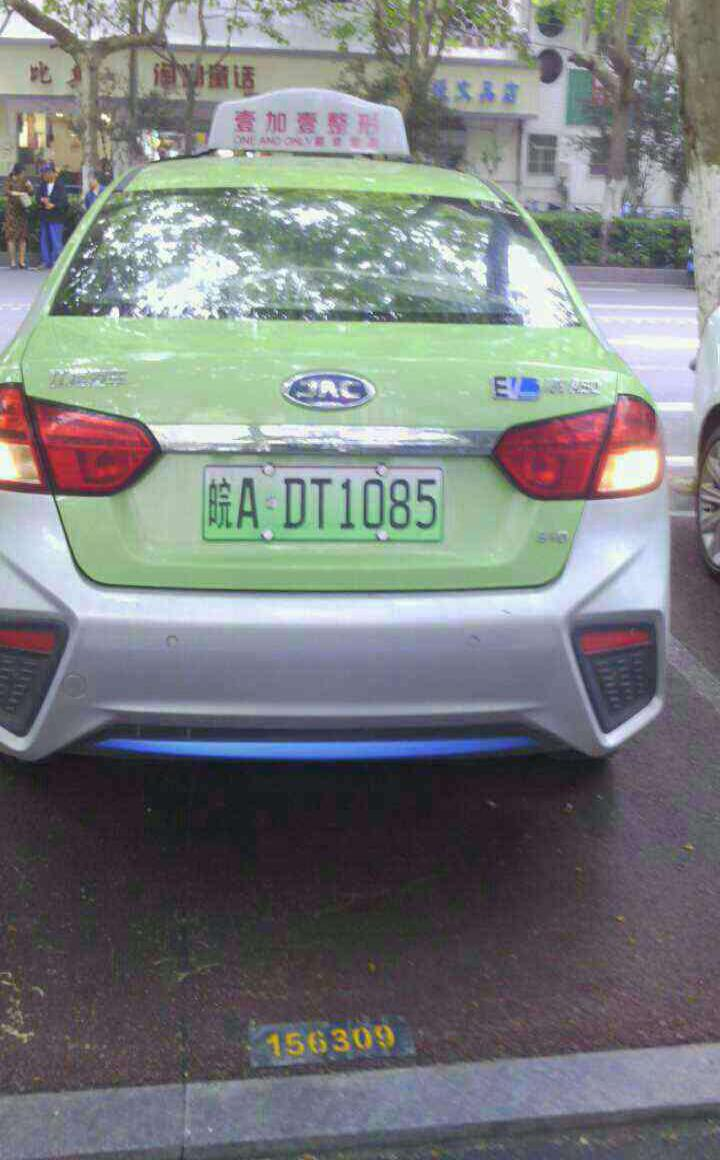car: (203, 463, 454, 536)
